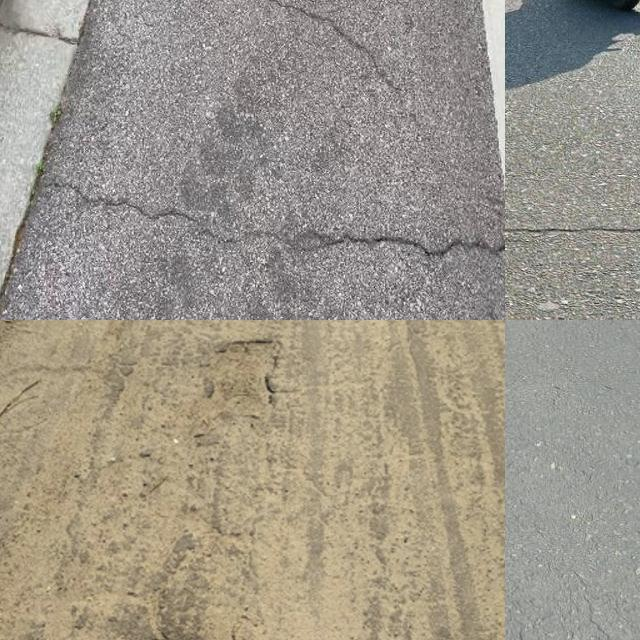Lubang: (204, 342, 284, 421)
Melintang: (29, 174, 505, 271), (237, 0, 446, 153), (505, 214, 640, 251)
